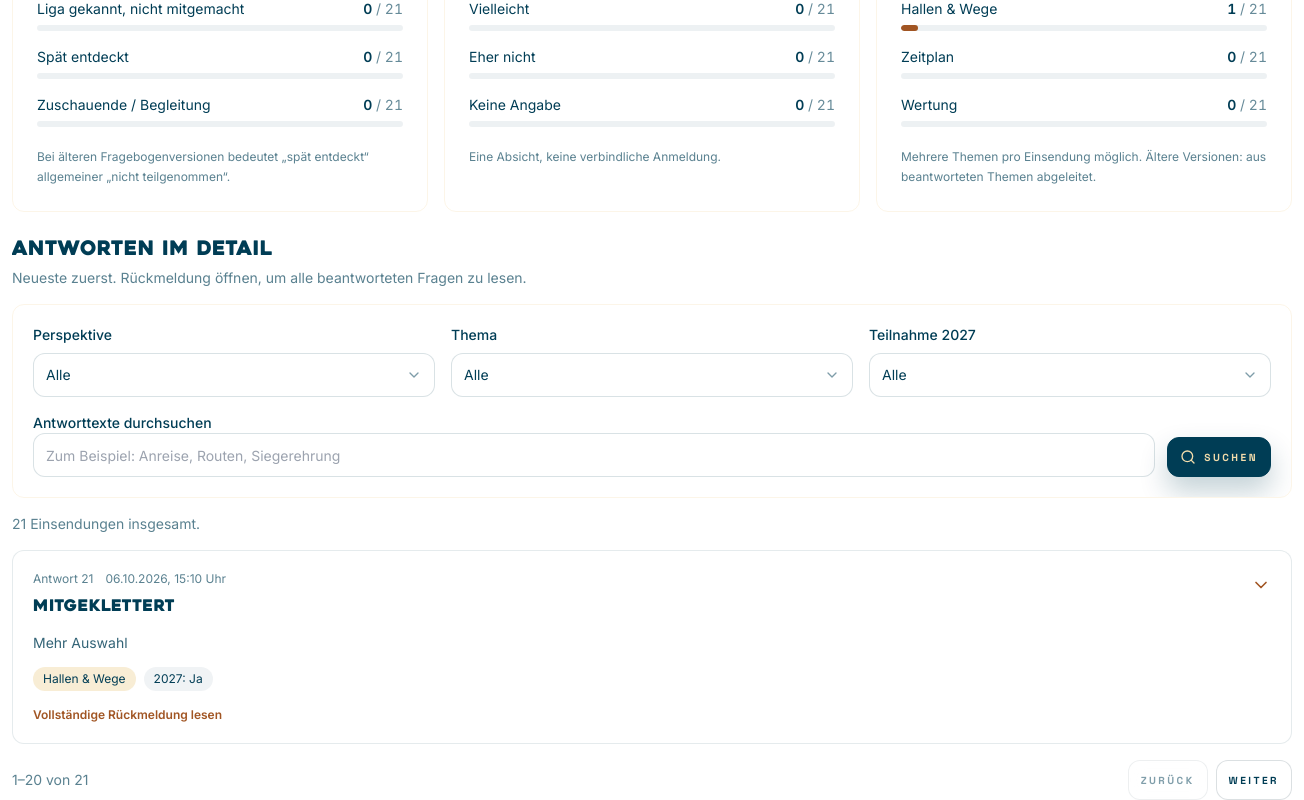
Test case: season feedback dashboard › paginates and aborts old requests
(page scrolled)
Expected: the text "21 Einsendungen insgesamt." is shown, [12,515,200,532]
Expected: the button "Zurück" is disabled, [1128,760,1208,799]
Click the button "Weiter" at (1254, 780), box [1216,760,1292,799]
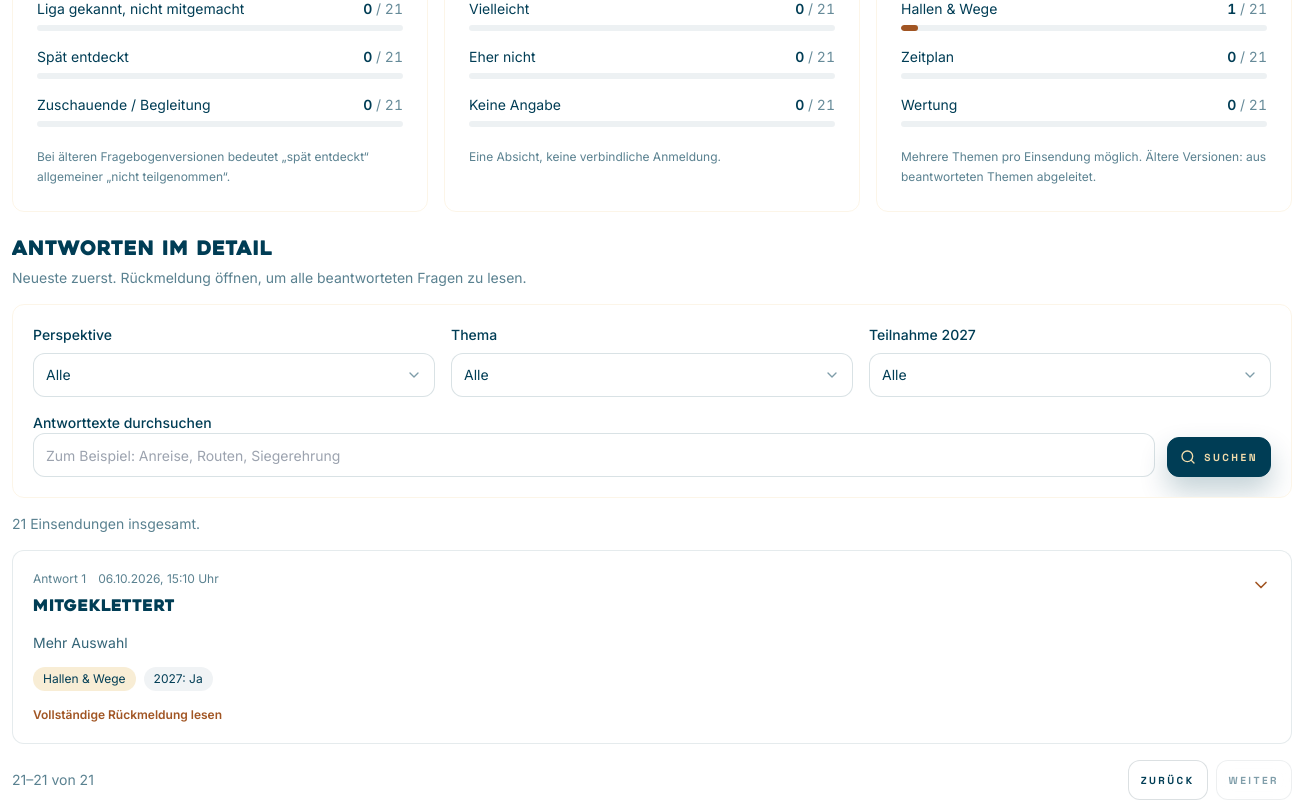
Expected: the text "21–21 von 21" is shown, [12,770,94,790]
Expected: the button "Weiter" is disabled, [1216,760,1292,799]
